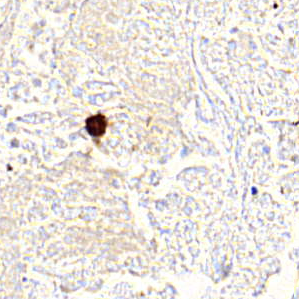Lymphocyte: (84, 111, 110, 138)
